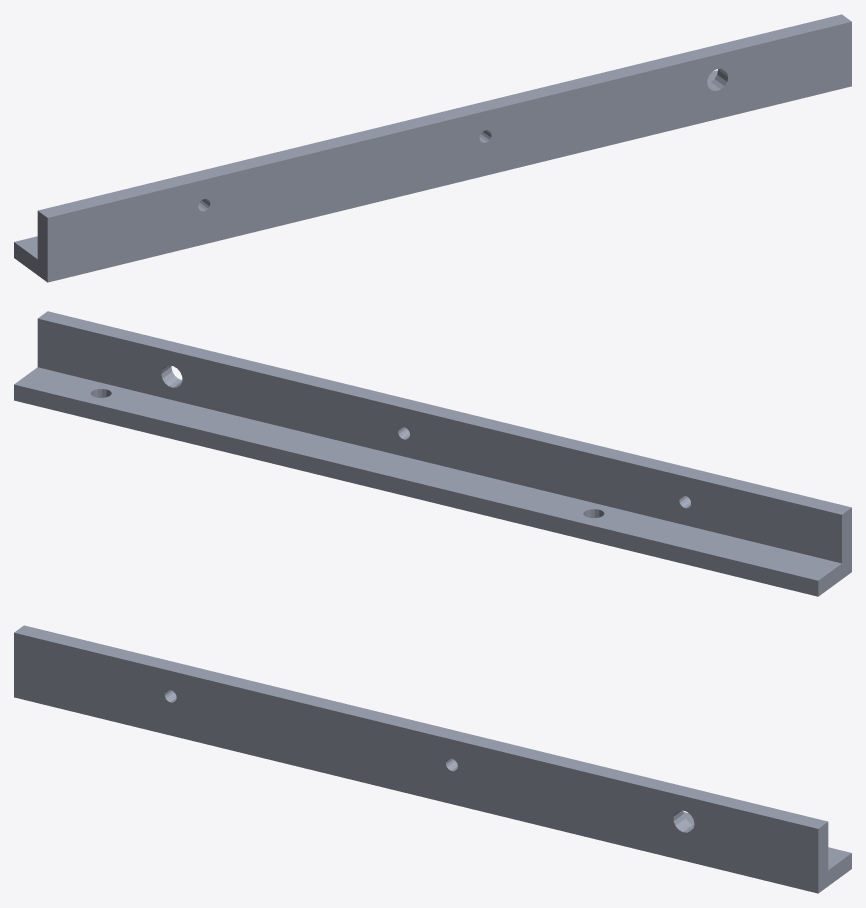
Rendered from RightSideRail.glb.
3 renders of one model, top to bottom at view 1: azimuth 30°, elevation 25°; view 2: azimuth 150°, elevation 25°; view 3: azimuth 330°, elevation 25°, orthographic.
Visible parts, largest first — view 1: RightSideRail; view 2: RightSideRail; view 3: RightSideRail.
Part boxes in pixels (x1,y1,x2,y2): RightSideRail: [14, 14, 851, 282]; RightSideRail: [14, 311, 851, 596]; RightSideRail: [14, 625, 851, 893].
Size of the model in its own units: 7.66 by 0.5883 by 0.5552.
1 material, 1 textured.
